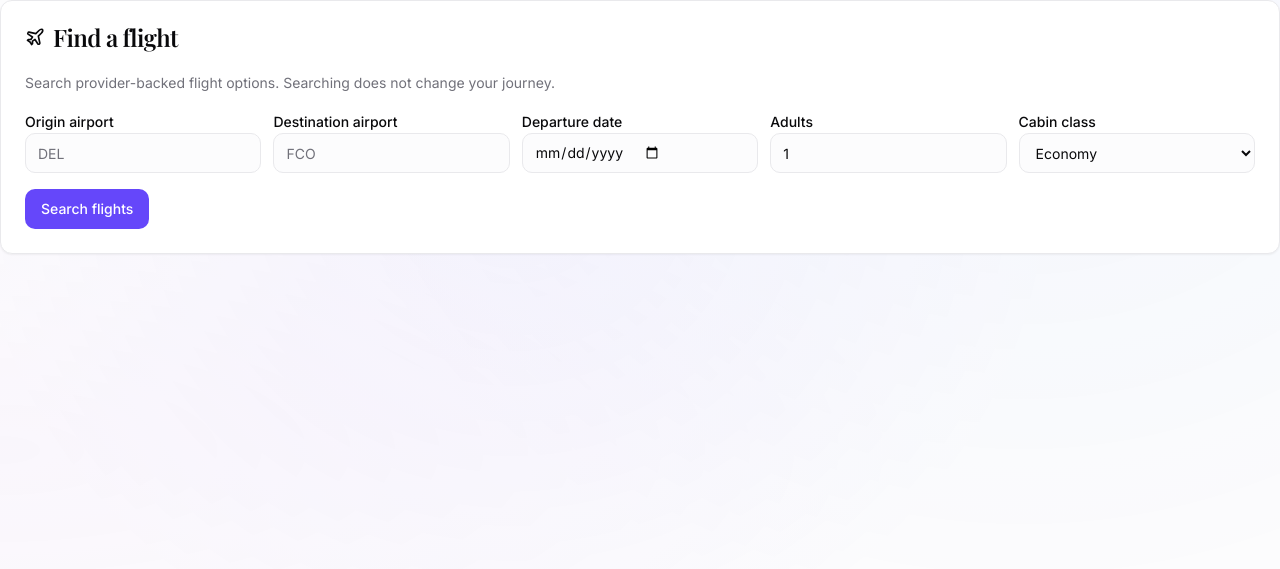
Test: FlightSearchPanel › validates IATA, route, date, and prevents binding without a flight segment
Step 1. Type "D" into the field labelled "Origin airport" → (143, 153), box [25, 133, 261, 173]
Step 2. Click the button "Search flights" → click(87, 209), box [25, 189, 149, 229]
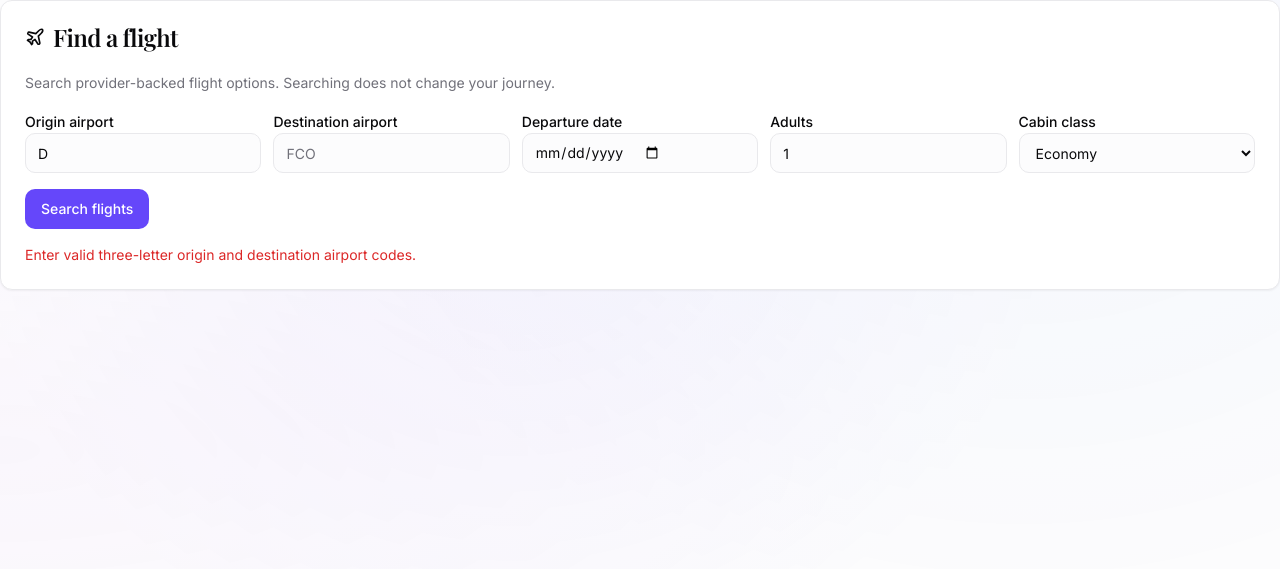
expect the message shows "three-letter": met, box [25, 246, 416, 263]
Step 3. Replace the text in the field labelled "Origin airport" with "DEL" → (143, 153), box [25, 133, 261, 173]
Step 4. Type "DEL" into the field labelled "Destination airport" → (392, 153), box [273, 133, 510, 173]
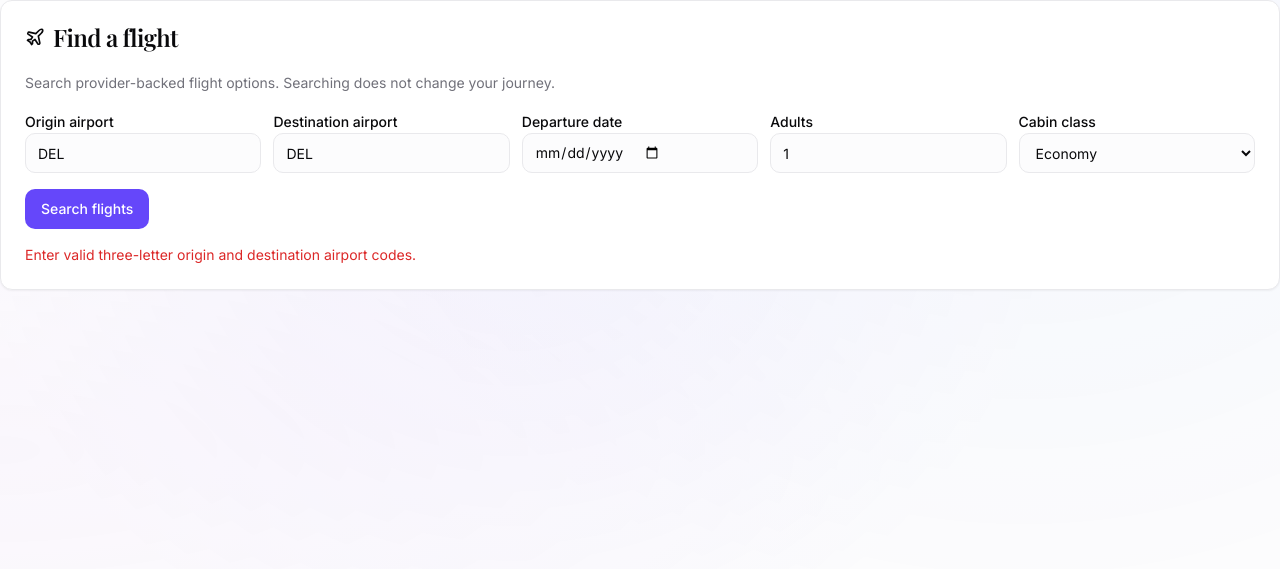
Step 5. Type "2026-09-20" into the date field labelled "Departure date" → (640, 153), box [522, 133, 758, 173]
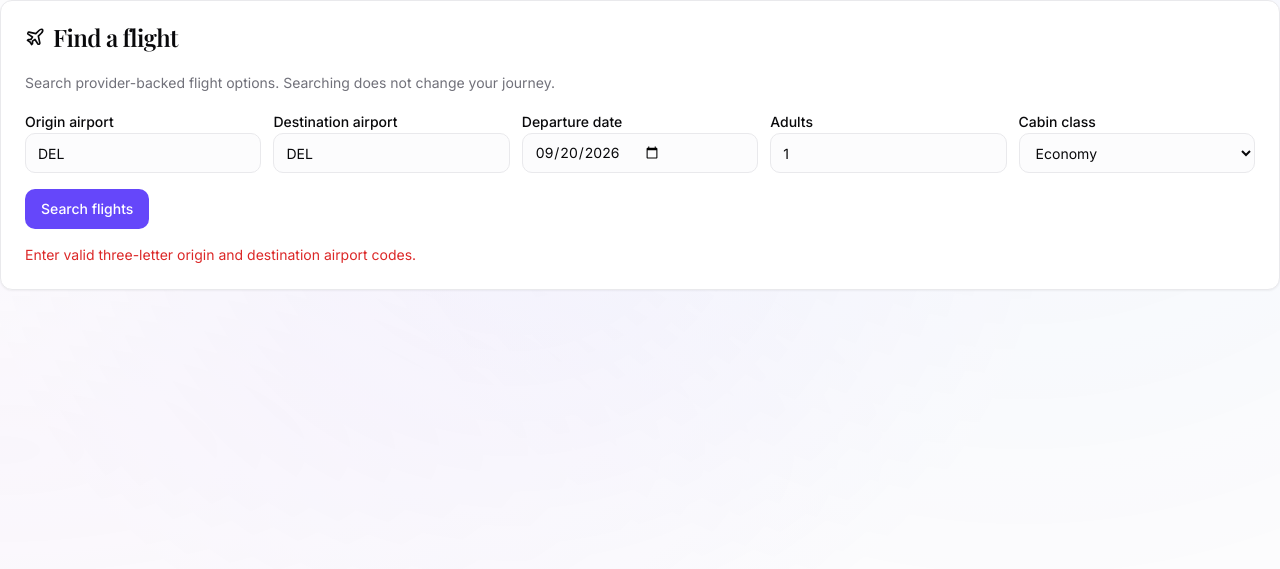
Step 6. Click the button "Search flights" → click(87, 209), box [25, 189, 149, 229]
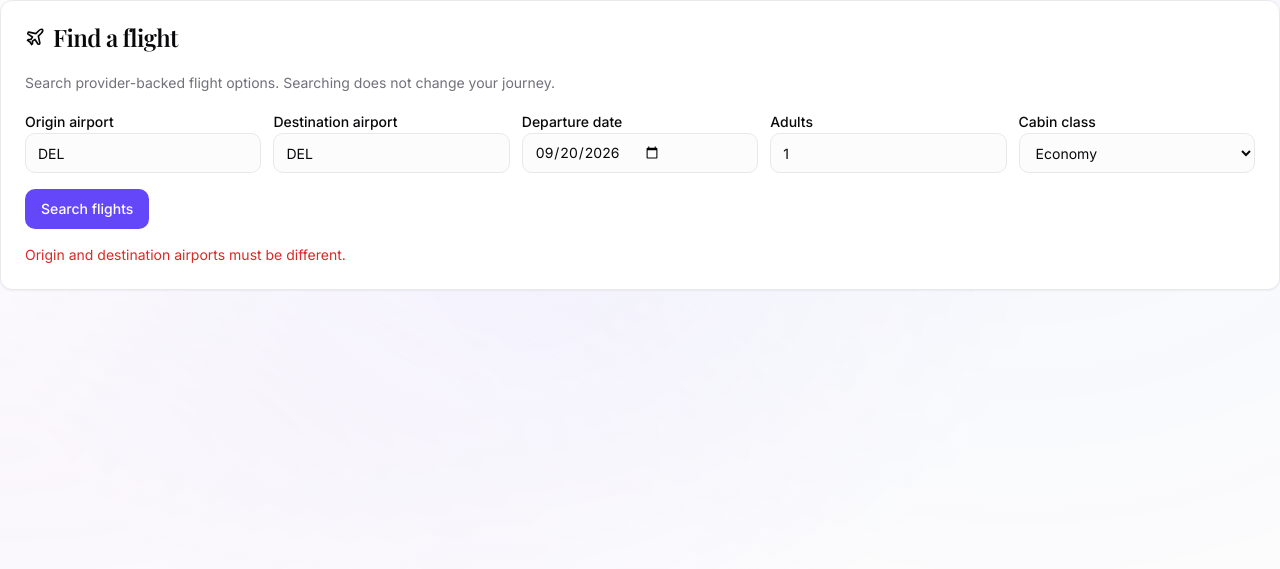
expect the message shows "must be different": met, box [25, 246, 346, 263]
Step 7. Replace the text in the field labelled "Destination airport" with "BOM" → (392, 153), box [273, 133, 510, 173]
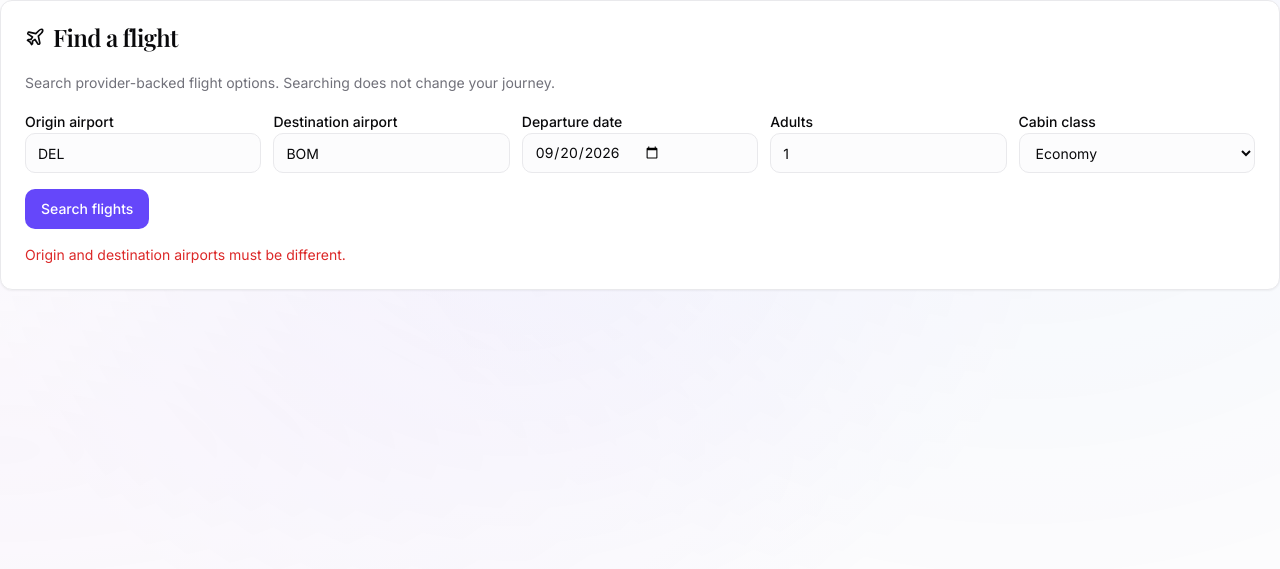
Step 8. Click the button "Search flights" → click(87, 209), box [25, 189, 149, 229]
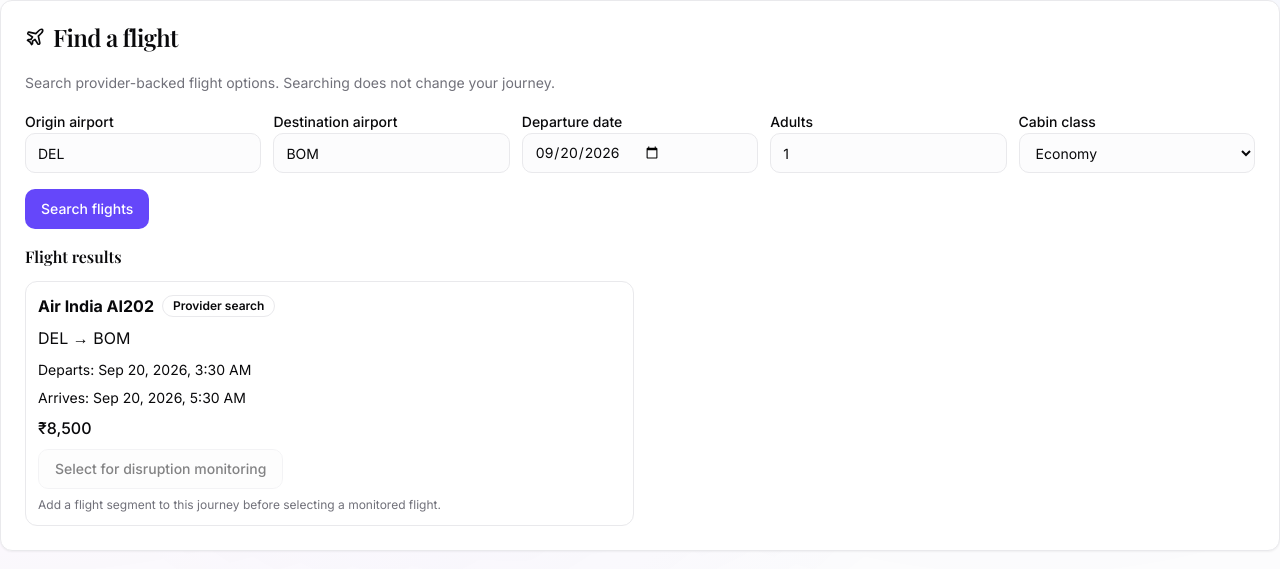
expect the button with aria-label "Select AI202" is disabled: met, box [38, 449, 283, 489]
